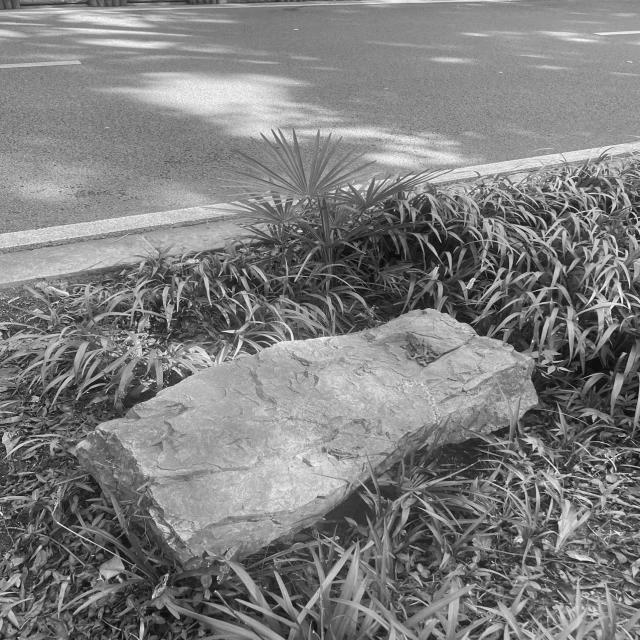Stone: (78, 309, 538, 563)
